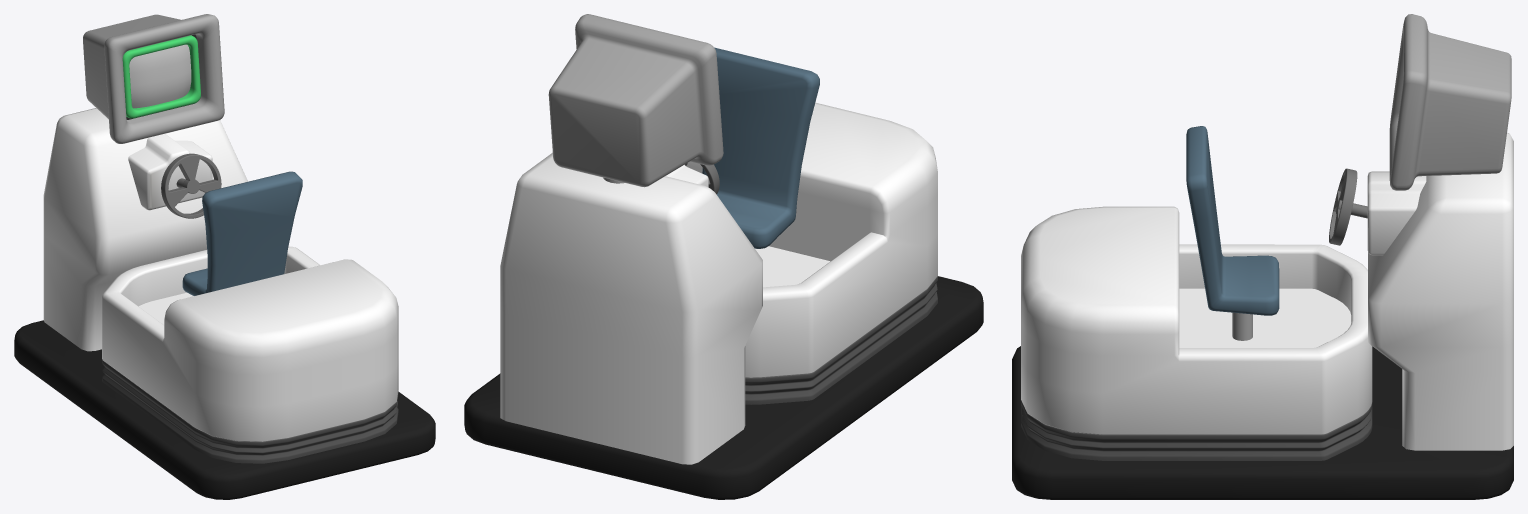
File: Racing_machine_1.fbx
3 renders of one model, left to right at view 1: azimuth 30°, elevation 25°; view 2: azimuth 150°, elevation 25°; view 3: azimuth 270°, elevation 25°, orthographic. The views are drawn at different scales.
Visible parts, largest first — view 1: Plane.008; view 2: Plane.008; view 3: Plane.008.
Boxes of the visible parts, <box> form: Plane.008: <box>14,14,435,499</box>; Plane.008: <box>464,14,983,499</box>; Plane.008: <box>1012,14,1513,499</box>.
Size of the model in its own units: 100 by 133 by 155.
